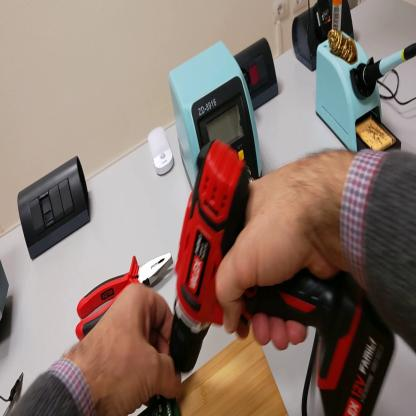electric screwdriver: (170, 145, 363, 416)
hand: (212, 158, 337, 352), (83, 281, 181, 408)
low voltage board: (141, 395, 182, 415)
pliers: (77, 242, 174, 343)
socket: (294, 7, 355, 74), (236, 32, 282, 112)
welder base: (317, 1, 402, 164)
welder probe tip: (362, 36, 416, 94)
welder station: (171, 48, 267, 197)
working area: (177, 330, 288, 416)
